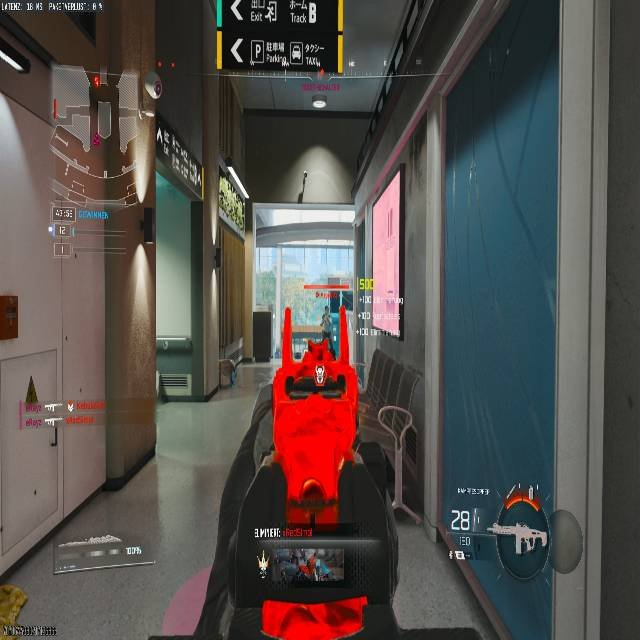player: (317, 294, 346, 358)
